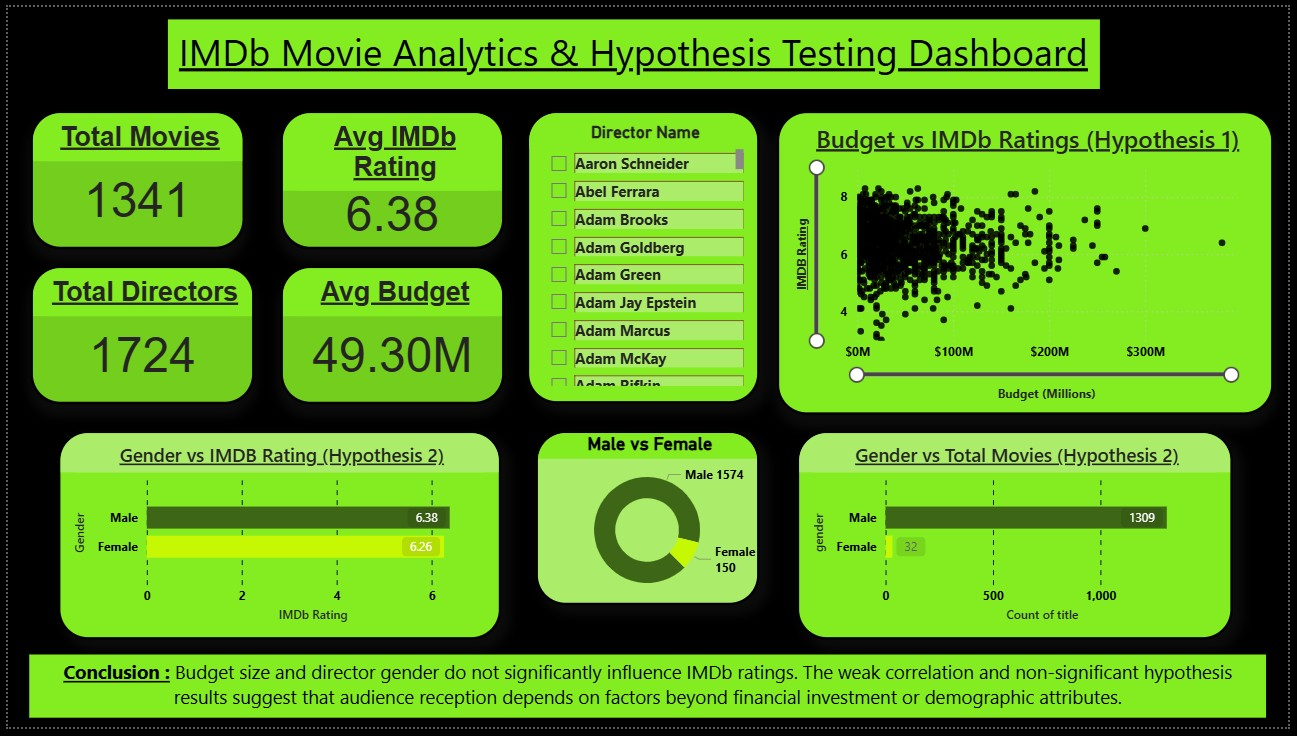

What the dashboard file says about the page in this screenshot:
{"tool":"powerbi","page":{"name":"Page 1","canvas":[1280,720],"ordinal":0},"visuals":[{"type":"card","title":"Total Movies","fields":{"Values":["directors_cleaned.Total_Movies"]},"box":[22.9,104.3,214.3,138.6],"z":0},{"type":"card","title":"Avg IMDb Rating","fields":{"Values":["directors_cleaned.Avg_IMDb_rating"]},"box":[272.9,104.3,224.3,138.6],"z":1000},{"type":"card","title":"Avg Budget","fields":{"Values":["directors_cleaned.Avg_Budget"]},"box":[272.9,258.6,224.3,138.6],"z":2000},{"type":"card","title":"Total Directors","fields":{"Values":["directors_cleaned.Total_directors"]},"box":[22.9,258.6,224.3,138.6],"z":3000},{"type":"scatterChart","title":"Budget vs IMDb Ratings  (Hypothesis 1)","fields":{"X":["movies_cleaned.budget"],"Y":["movies_cleaned.IMDb_rating"]},"box":[768.6,104.3,497.1,304.3],"z":4000},{"type":"slicer","title":"Director Name","fields":{"Values":["directors_cleaned.director_name"]},"box":[518.6,104.3,232.9,292.9],"z":5000},{"type":"donutChart","title":"Male vs Female","fields":{"Category":["directors_cleaned.gender"],"Y":["CountNonNull(directors_cleaned.gender)"]},"box":[527.1,424.3,224.3,174.3],"z":6000},{"type":"clusteredBarChart","title":"Gender vs IMDB Rating (Hypothesis 2)","fields":{"Category":["directors_cleaned.gender"],"Y":["Avg(movies_cleaned.IMDb_rating)"]},"box":[50,424.3,442.9,208.6],"z":6001},{"type":"barChart","title":"Gender vs Total Movies (Hypothesis 2)","fields":{"Category":["directors_cleaned.gender"],"Y":["CountNonNull(movies_cleaned.title)"]},"box":[788.6,424.3,435.7,208.6],"z":6002},{"type":"textbox","box":[157.1,10,937.1,74.3],"z":6003},{"type":"textbox","box":[21.4,647.1,1237.1,62.9],"z":6004}]}

Visuals, with their boxes in screenshot pixels (x1, y1, x2, y2), scaled from the page's 1280x720 canvas onto the 1297x736 screenshot:
"Total Movies" card: {"x1": 23, "y1": 107, "x2": 240, "y2": 248}
"Avg IMDb Rating" card: {"x1": 277, "y1": 107, "x2": 504, "y2": 248}
"Avg Budget" card: {"x1": 277, "y1": 264, "x2": 504, "y2": 406}
"Total Directors" card: {"x1": 23, "y1": 264, "x2": 250, "y2": 406}
"Budget vs IMDb Ratings  (Hypothesis 1)" scatterChart: {"x1": 779, "y1": 107, "x2": 1283, "y2": 418}
"Director Name" slicer: {"x1": 525, "y1": 107, "x2": 761, "y2": 406}
"Male vs Female" donutChart: {"x1": 534, "y1": 434, "x2": 761, "y2": 612}
"Gender vs IMDB Rating (Hypothesis 2)" clusteredBarChart: {"x1": 51, "y1": 434, "x2": 499, "y2": 647}
"Gender vs Total Movies (Hypothesis 2)" barChart: {"x1": 799, "y1": 434, "x2": 1241, "y2": 647}
textbox: {"x1": 159, "y1": 10, "x2": 1109, "y2": 86}
textbox: {"x1": 22, "y1": 661, "x2": 1275, "y2": 726}
